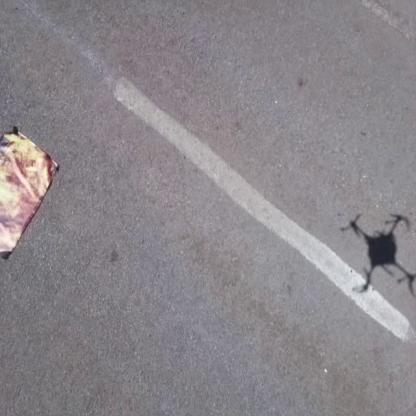fire-poster: (0, 123, 60, 261)
